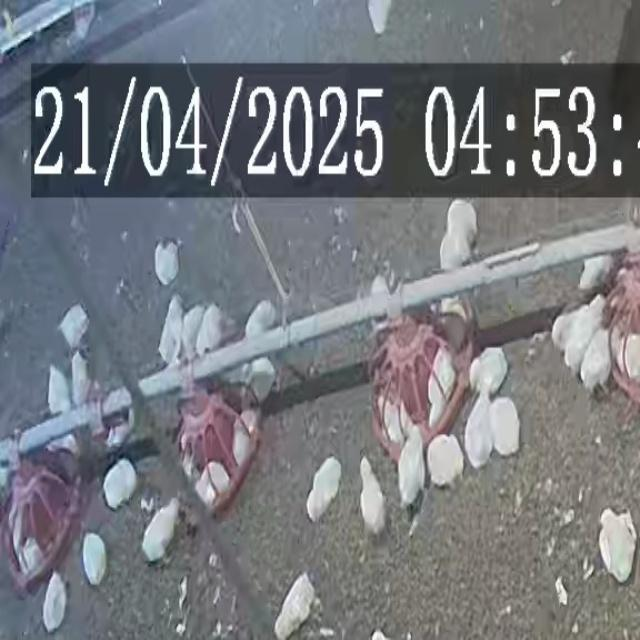chicken: (596, 508, 636, 584), (439, 200, 479, 271), (568, 290, 603, 370), (274, 573, 316, 639), (140, 499, 182, 564), (425, 348, 456, 428), (358, 456, 387, 536), (396, 430, 426, 505), (579, 329, 613, 395), (464, 395, 494, 468), (309, 456, 341, 522), (433, 291, 468, 351), (426, 432, 464, 487), (156, 295, 185, 365), (467, 346, 508, 395), (101, 458, 138, 510), (488, 396, 520, 456), (194, 462, 231, 509), (196, 303, 228, 357), (57, 303, 90, 351), (180, 303, 207, 359), (42, 574, 68, 632), (376, 392, 405, 444), (244, 357, 277, 402), (81, 532, 108, 586), (577, 254, 612, 292), (245, 299, 278, 339), (47, 362, 72, 414), (154, 239, 181, 285), (70, 349, 92, 405), (232, 420, 253, 470), (620, 333, 640, 383), (369, 274, 392, 302)
